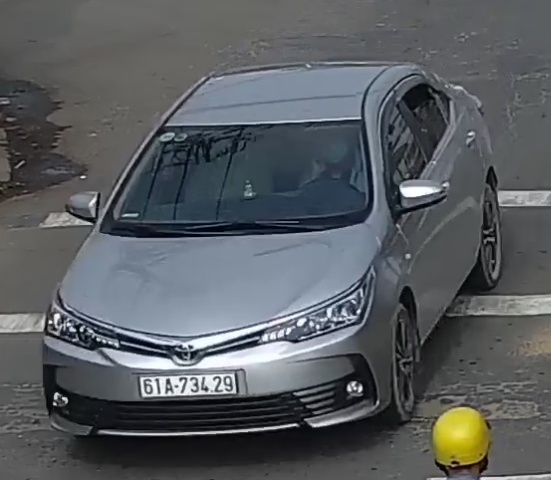vehicle plate: (133, 370, 245, 400)
